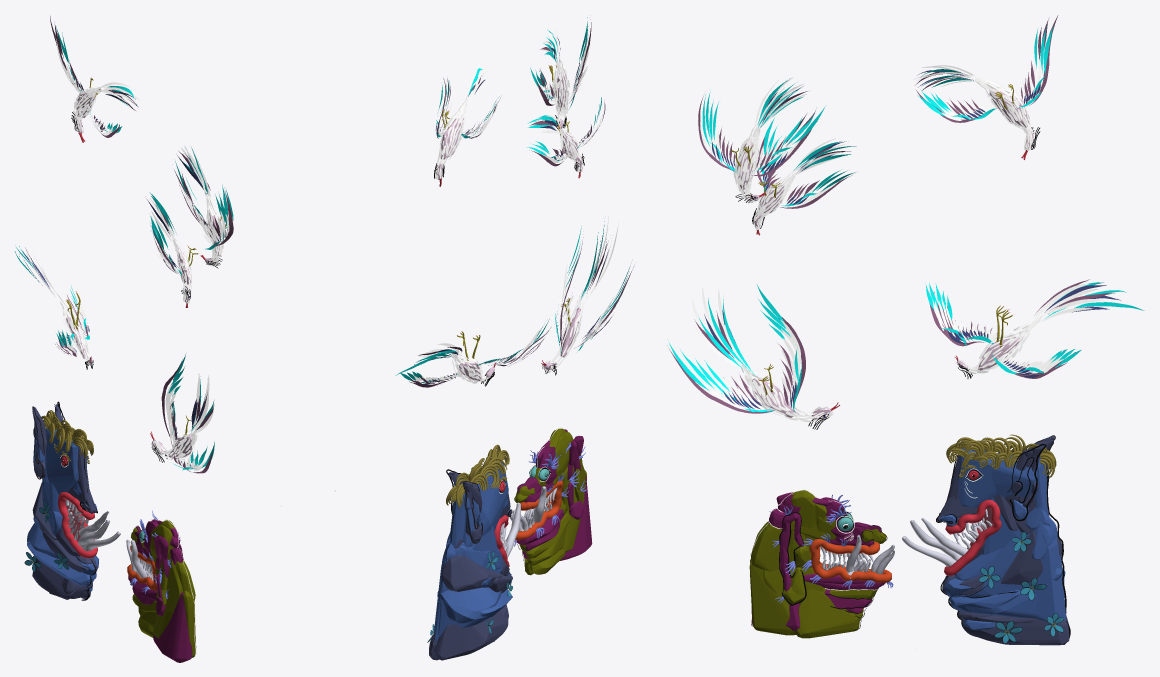
Rendered from artwork-1779708167025.glb.
3 views of the same model, side by side, from view 1: azimuth 30°, elevation 25°; view 2: azimuth 150°, elevation 25°; view 3: azimuth 270°, elevation 25° (orthographic). The views are drawn at different scales.
Parts seen in each view (by area): view 1: brush_mattehull_8 (×2), brush_doubletaperedflat_0, brush_mattehull_9, brush_icing_0, brush_taperedmarker_2, brush_mattehull_7, brush_mattehull_1, brush_taperedmarker_1, brush_shinyhull_0, brush_icing_3, brush_mattehull_0, brush_taperedmarker_0 (+9 smaller); view 2: brush_mattehull_8 (×2), brush_mattehull_9, brush_doubletaperedflat_0, brush_icing_0, brush_mattehull_1, brush_shinyhull_0, brush_icing_3, brush_taperedmarker_1, brush_taperedmarker_2, brush_mattehull_7, brush_taperedmarker_0, brush_taperedmarker_6 (+6 smaller); view 3: brush_doubletaperedflat_0, brush_mattehull_9, brush_mattehull_7, brush_mattehull_8 (×2), brush_icing_0, brush_taperedmarker_1, brush_taperedmarker_0, brush_mattehull_0, brush_shinyhull_0, brush_taperedmarker_2, brush_icing_1, brush_taperedmarker_3 (+11 smaller).
Boxes of the visible parts, box(x1,y1,x2,y2) form: brush_mattehull_8 (×2): box(27, 410, 192, 662); brush_doubletaperedflat_0: box(14, 16, 233, 473); brush_mattehull_9: box(27, 411, 169, 616); brush_icing_0: box(36, 452, 157, 590); brush_taperedmarker_2: box(98, 82, 233, 460); brush_mattehull_7: box(140, 525, 196, 658); brush_mattehull_1: box(32, 482, 97, 588); brush_taperedmarker_1: box(59, 301, 213, 470); brush_shinyhull_0: box(66, 92, 221, 459); brush_icing_3: box(41, 410, 89, 463); brush_mattehull_0: box(54, 404, 95, 591); brush_taperedmarker_0: box(26, 253, 92, 364); brush_mattehull_8 (×2): box(429, 428, 592, 660); brush_mattehull_9: box(433, 436, 583, 640); brush_doubletaperedflat_0: box(395, 17, 633, 387); brush_icing_0: box(476, 466, 563, 566); brush_mattehull_1: box(441, 509, 512, 593); brush_shinyhull_0: box(436, 73, 582, 380); brush_icing_3: box(446, 444, 509, 508); brush_taperedmarker_1: box(458, 216, 618, 381); brush_taperedmarker_2: box(466, 29, 590, 372); brush_mattehull_7: box(522, 432, 586, 575); brush_taperedmarker_0: box(408, 330, 539, 383); brush_taperedmarker_6: box(435, 99, 467, 179); brush_doubletaperedflat_0: box(667, 15, 1144, 413); brush_mattehull_9: box(776, 448, 1066, 621); brush_mattehull_7: box(749, 503, 872, 638); brush_mattehull_8 (×2): box(751, 439, 1069, 645); brush_icing_0: box(809, 470, 1022, 582); brush_taperedmarker_1: box(691, 287, 1029, 422); brush_taperedmarker_0: box(933, 284, 1105, 373); brush_mattehull_0: box(939, 445, 1044, 623); brush_shinyhull_0: box(737, 89, 1033, 419); brush_taperedmarker_2: box(700, 65, 976, 421); brush_icing_1: box(782, 495, 894, 605); brush_taperedmarker_3: box(735, 124, 837, 205).
Size of the model in its own units: 10.37 by 24.71 by 17.03.
37 materials, 18 textured.
